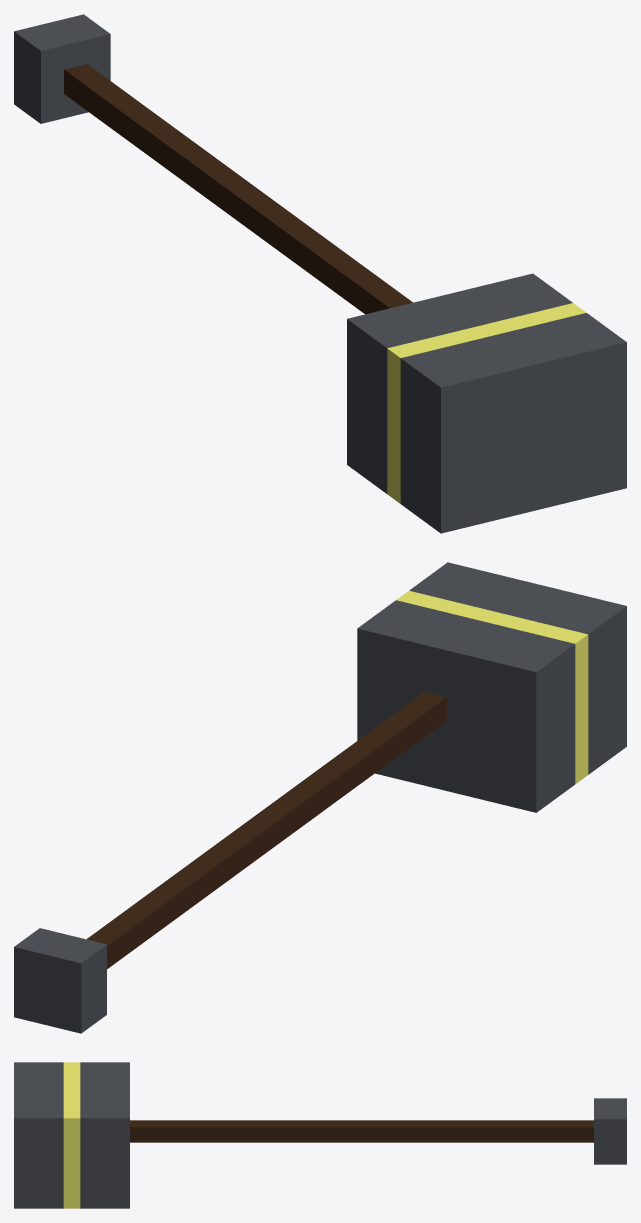
File: vox_hammer.glb
3 views of the same model, one above another, from view 1: azimuth 30°, elevation 25°; view 2: azimuth 150°, elevation 25°; view 3: azimuth 270°, elevation 25° (orthographic). The views are drawn at different scales.
Parts seen in each view (by area): view 1: vox_hammer; view 2: vox_hammer; view 3: vox_hammer.
Boxes of the visible parts, x1,y1,x2,y2 form: vox_hammer: (14, 14, 626, 533); vox_hammer: (14, 562, 626, 1033); vox_hammer: (14, 1062, 626, 1208).
Bounding box in the file's own units: 0.16 × 0.12 × 0.74.
